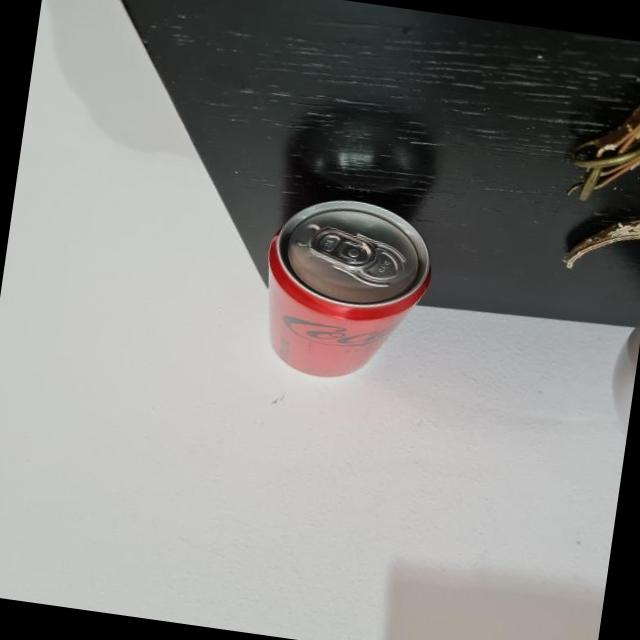Kaleng: (252, 189, 442, 393)
